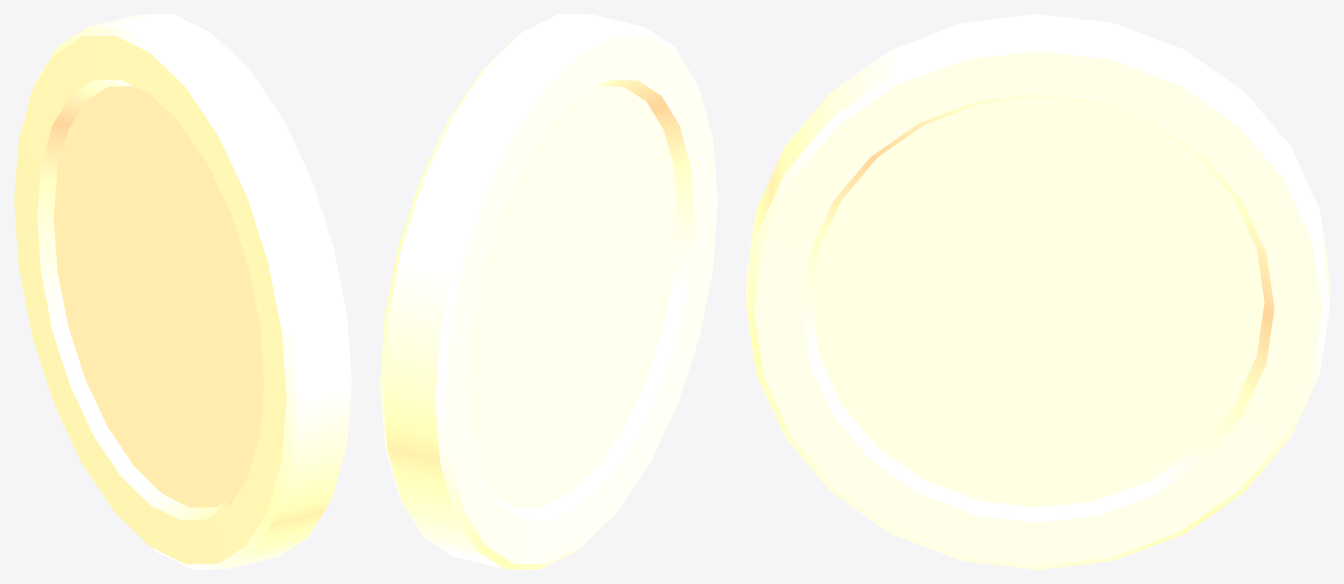
The model's file is Moneta01.fbx.
3 views of the same model, side by side, from view 1: azimuth 30°, elevation 25°; view 2: azimuth 150°, elevation 25°; view 3: azimuth 270°, elevation 25° (orthographic). The views are drawn at different scales.
Visible parts, largest first — view 1: Moneta01; view 2: Moneta01; view 3: Moneta01.
Boxes of the visible parts, x1,y1,x2,y2 form: Moneta01: (14, 14, 351, 569); Moneta01: (380, 14, 717, 569); Moneta01: (746, 14, 1329, 569).
Bounding box in the file's own units: 0.2695 × 2 × 2.
